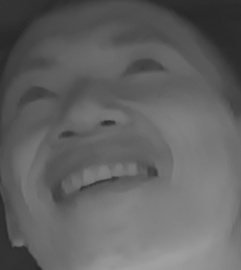eye: (114, 48, 171, 84), (11, 80, 58, 111)
mouth: (40, 147, 160, 212)
